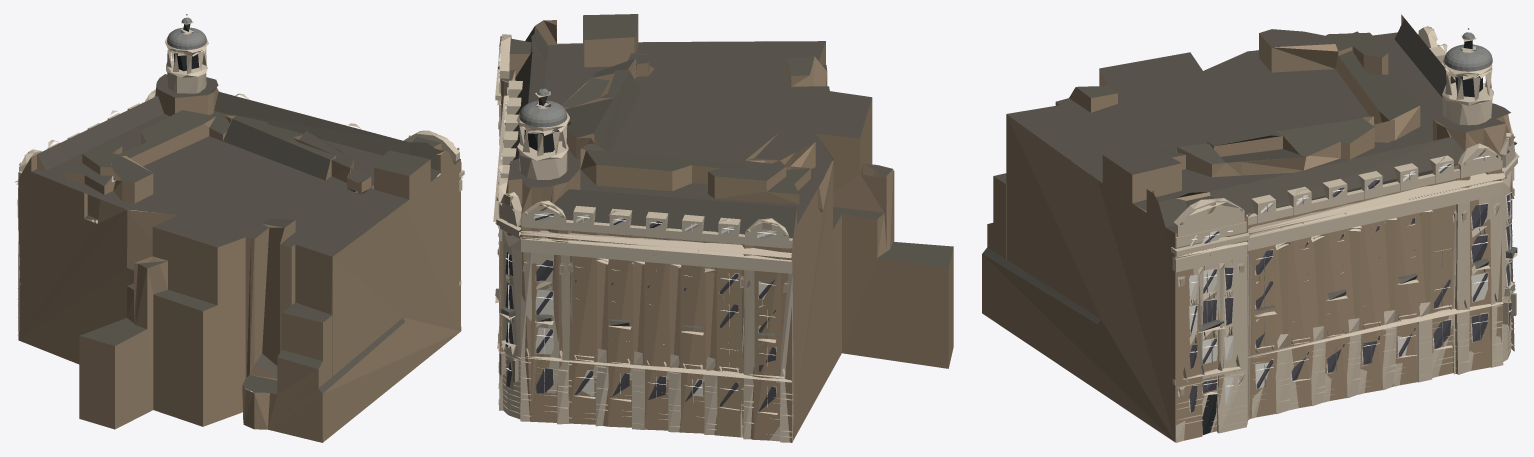
The model's file is lloyd-prins-hendrikkade-33.lod1.glb.
3 views of the same model, side by side, from view 1: azimuth 30°, elevation 25°; view 2: azimuth 150°, elevation 25°; view 3: azimuth 270°, elevation 25° (orthographic). The views are drawn at different scales.
Visible parts, largest first — view 1: lloyd-prins-hendrikkade-33; view 2: lloyd-prins-hendrikkade-33; view 3: lloyd-prins-hendrikkade-33.
Part boxes in pixels (x1,y1,x2,y2): lloyd-prins-hendrikkade-33: (14, 14, 464, 442); lloyd-prins-hendrikkade-33: (493, 14, 953, 442); lloyd-prins-hendrikkade-33: (982, 14, 1519, 442).
Size of the model in its own units: 49.38 by 33.11 by 49.86.
